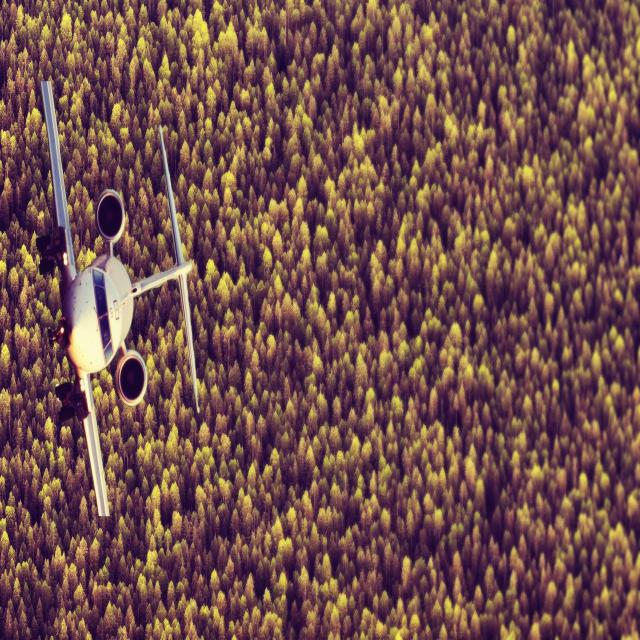airplane: (34, 78, 200, 517)
